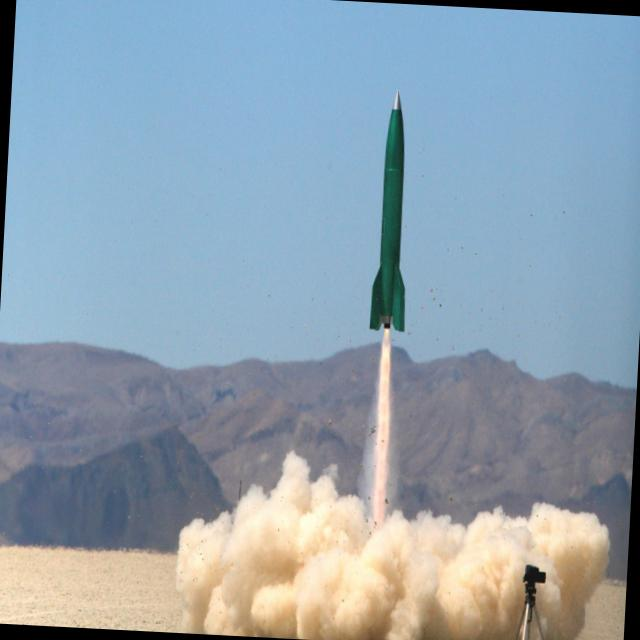rocket: (360, 86, 421, 382)
